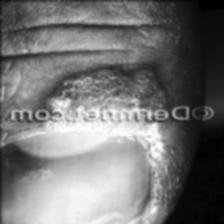Toxin: (38, 68, 162, 132)
